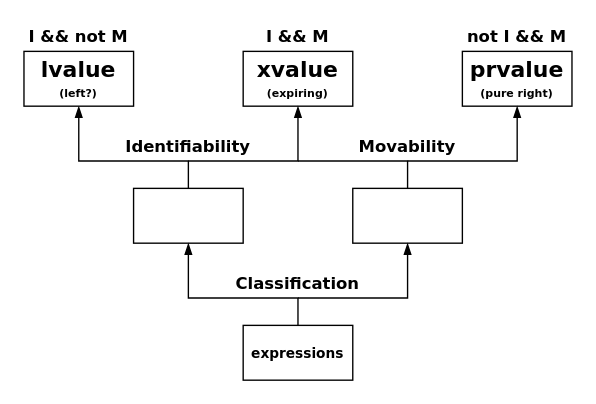
Some shapes in this 596 by 404 pixel diagram are drawn without their labels. Here are the shapes that lost their labels. From the top down, the centre of each, then its label:
At (187,215): "gvalue (generalized)".
At (406,215): "rvalue (right?)".
